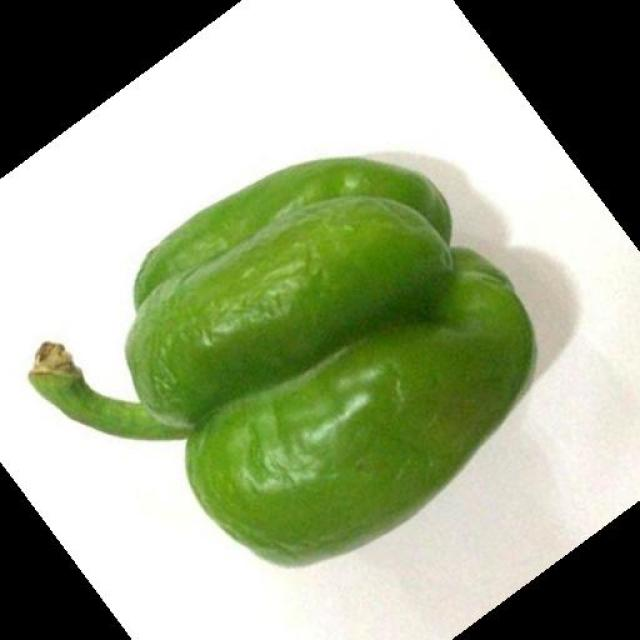Fresh_Capsicum: (40, 180, 504, 534)
